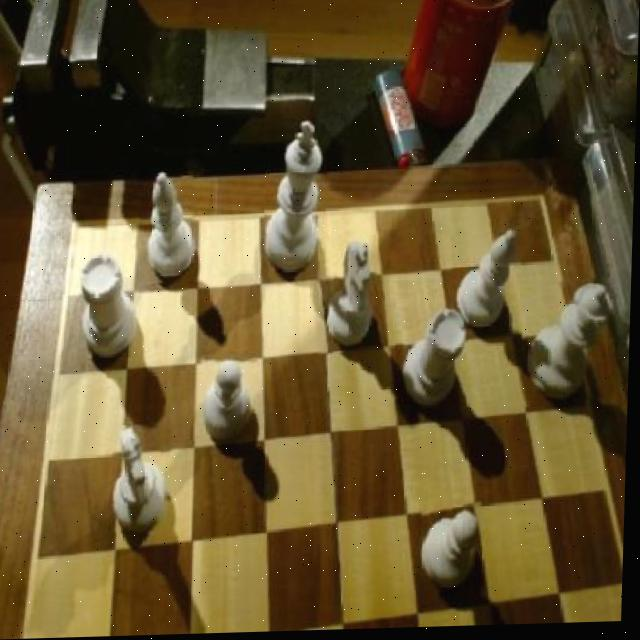black-rook: (454, 229, 524, 340), (138, 163, 199, 287)
white-bishop: (263, 109, 331, 282)
white-king: (318, 238, 382, 357), (111, 425, 173, 536)
white-knight: (424, 507, 488, 597), (198, 358, 259, 447)
white-pawn: (522, 281, 621, 408)
white-queen: (395, 310, 471, 417), (78, 250, 140, 360)
